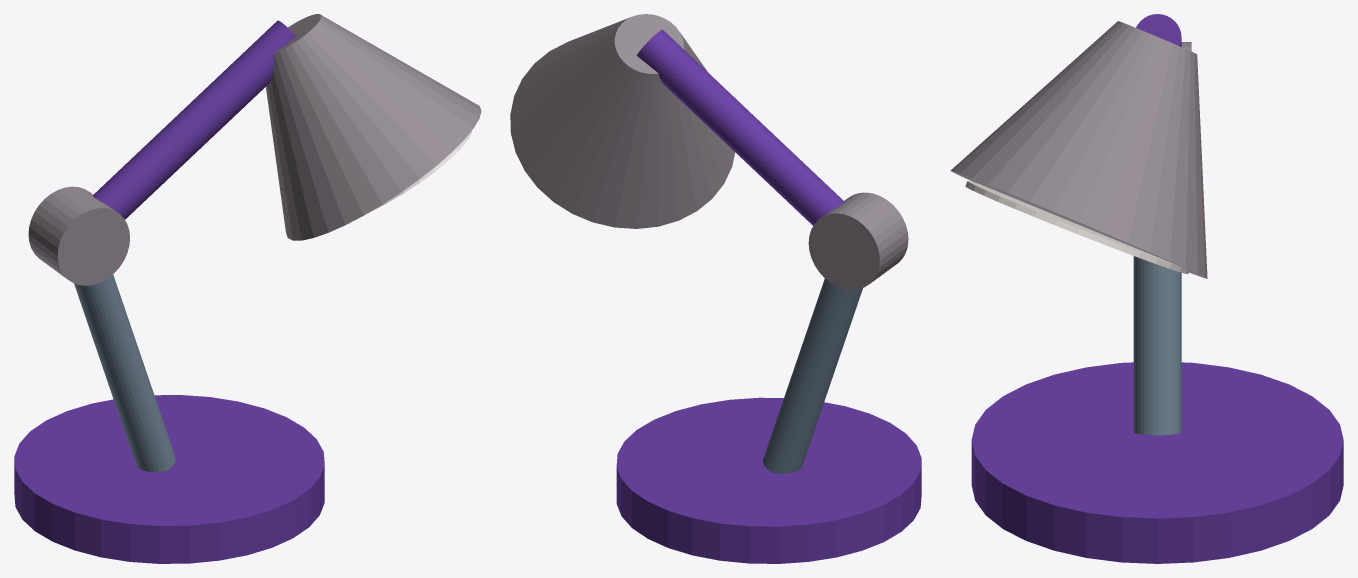
Rendered from lamp.glb.
The picture shows the model from 3 angles, left to right: view 1: azimuth 30°, elevation 25°; view 2: azimuth 150°, elevation 25°; view 3: azimuth 270°, elevation 25°; orthographic projection. The views are drawn at different scales.
Parts seen in each view (by area): view 1: base, shade, upper arm, lower arm, joint; view 2: base, shade, upper arm, lower arm, joint; view 3: base, shade, lower arm, diffuser, upper arm.
Part boxes in pixels (x1,y1,x2,y2): base: [14, 395, 324, 563]; shade: [266, 14, 481, 240]; upper arm: [93, 20, 296, 219]; lower arm: [74, 274, 175, 472]; joint: [28, 186, 129, 285]; base: [616, 397, 921, 563]; shade: [510, 14, 735, 228]; upper arm: [637, 29, 844, 225]; lower arm: [763, 278, 862, 473]; joint: [808, 192, 908, 289]; base: [971, 362, 1343, 563]; shade: [950, 21, 1207, 278]; lower arm: [1133, 256, 1181, 435]; diffuser: [965, 181, 1189, 273]; upper arm: [1136, 14, 1181, 46].
Size of the model in its own units: 1.58 by 1.67 by 1.1.
